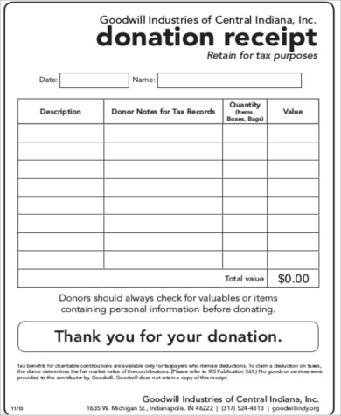textbox: (156, 69, 304, 91), (100, 192, 224, 217), (101, 247, 225, 272), (100, 211, 225, 235), (100, 229, 225, 253), (101, 121, 225, 145), (101, 157, 225, 181), (101, 140, 225, 163), (101, 176, 225, 199), (16, 156, 106, 182), (16, 212, 107, 237), (16, 138, 106, 163), (14, 248, 107, 272), (13, 121, 106, 144), (14, 176, 107, 199), (14, 194, 107, 217), (14, 230, 107, 253), (58, 70, 133, 90), (265, 247, 322, 272), (264, 157, 322, 181), (264, 193, 322, 217), (264, 211, 322, 235), (264, 139, 321, 163), (265, 229, 322, 253), (219, 191, 269, 218), (265, 176, 322, 199), (264, 121, 322, 143), (220, 156, 269, 182), (219, 211, 270, 235), (219, 175, 269, 199), (220, 247, 269, 271), (219, 230, 270, 253), (220, 121, 270, 144), (220, 140, 270, 163)
